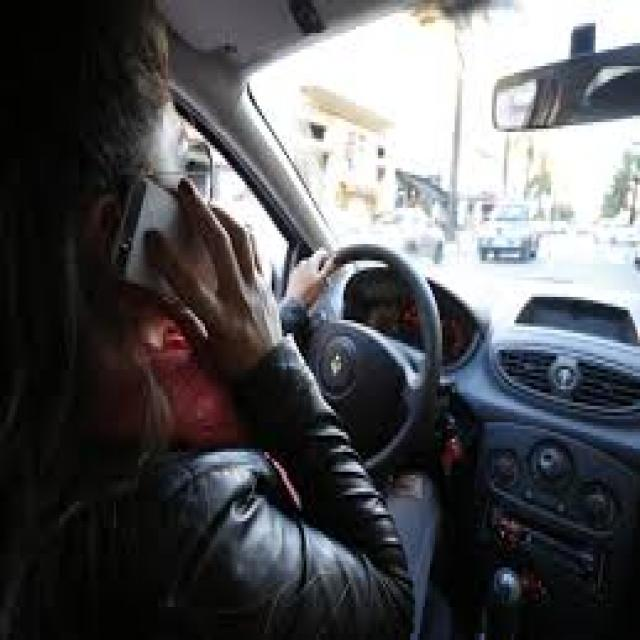Cellphone_calling: (94, 132, 272, 369)
